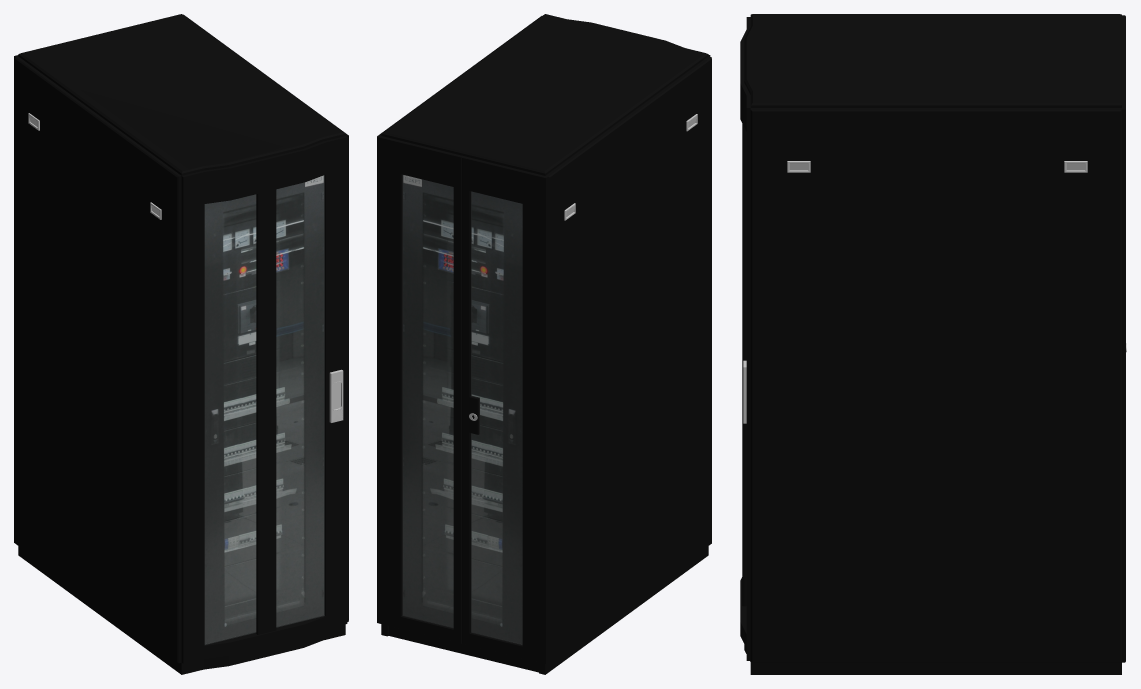
File: jigui_f.obj
3 renders of one model, left to right at view 1: azimuth 30°, elevation 25°; view 2: azimuth 150°, elevation 25°; view 3: azimuth 270°, elevation 25°, orthographic. The views are drawn at different scales.
Visible parts, largest first — view 1: Obj3d66_571012_182_802, Obj3d66_571012_178_930, Obj3d66_571012_179_1039, Obj3d66_571012_184_070, Obj3d66_571012_181_279; view 2: Obj3d66_571012_182_802, Obj3d66_571012_177_656, Obj3d66_571012_180_1044; view 3: Obj3d66_571012_182_802, Obj3d66_571012_184_070, Obj3d66_571012_176_919.
Boxes of the visible parts, bbox=[...] form: Obj3d66_571012_182_802: bbox=[14, 14, 348, 674]; Obj3d66_571012_178_930: bbox=[204, 175, 323, 644]; Obj3d66_571012_179_1039: bbox=[205, 175, 324, 644]; Obj3d66_571012_184_070: bbox=[181, 136, 347, 663]; Obj3d66_571012_181_279: bbox=[329, 369, 343, 422]; Obj3d66_571012_182_802: bbox=[377, 14, 711, 674]; Obj3d66_571012_177_656: bbox=[403, 175, 522, 644]; Obj3d66_571012_180_1044: bbox=[403, 175, 521, 644]; Obj3d66_571012_182_802: bbox=[744, 14, 1125, 674]; Obj3d66_571012_184_070: bbox=[740, 17, 750, 660]; Obj3d66_571012_176_919: bbox=[787, 161, 1126, 352].
Bounding box in the file's own units: 731 × 2013 × 1233.
